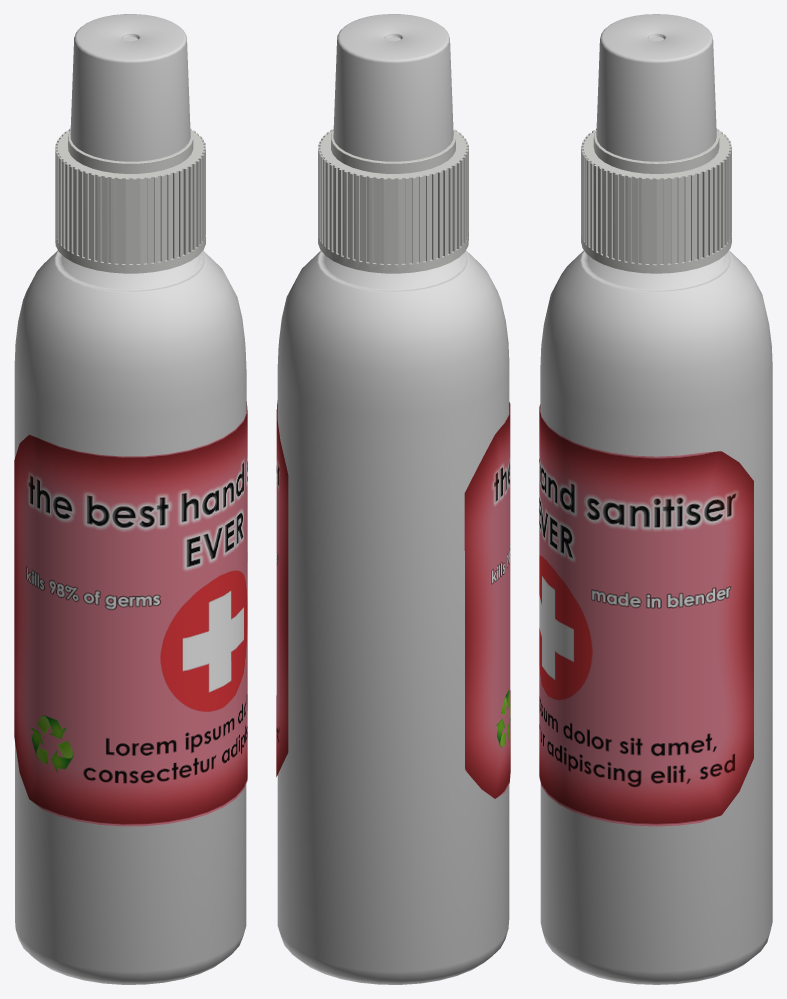
The model's file is sanitizerspray.glb.
The picture shows the model from 3 angles, left to right: view 1: azimuth 30°, elevation 25°; view 2: azimuth 150°, elevation 25°; view 3: azimuth 270°, elevation 25°; orthographic projection.
Visible parts, largest first — view 1: label_4, container_0, nozzle_3, cap_1; view 2: container_0, label_4, nozzle_3, cap_1; view 3: container_0, label_4, nozzle_3, cap_1.
Boxes of the visible parts, x1,y1,x2,y2 form: label_4: [14, 401, 247, 826]; container_0: [14, 250, 246, 984]; nozzle_3: [55, 128, 205, 273]; cap_1: [70, 14, 190, 161]; container_0: [277, 250, 509, 984]; label_4: [276, 400, 510, 798]; nozzle_3: [318, 129, 468, 273]; cap_1: [333, 14, 453, 161]; container_0: [540, 250, 772, 984]; label_4: [539, 404, 753, 826]; nozzle_3: [581, 128, 731, 273]; cap_1: [596, 14, 716, 161].
Size of the model in its own units: 0.0451 by 0.1925 by 0.0449.
Materials: 4 (1 with a texture image).
